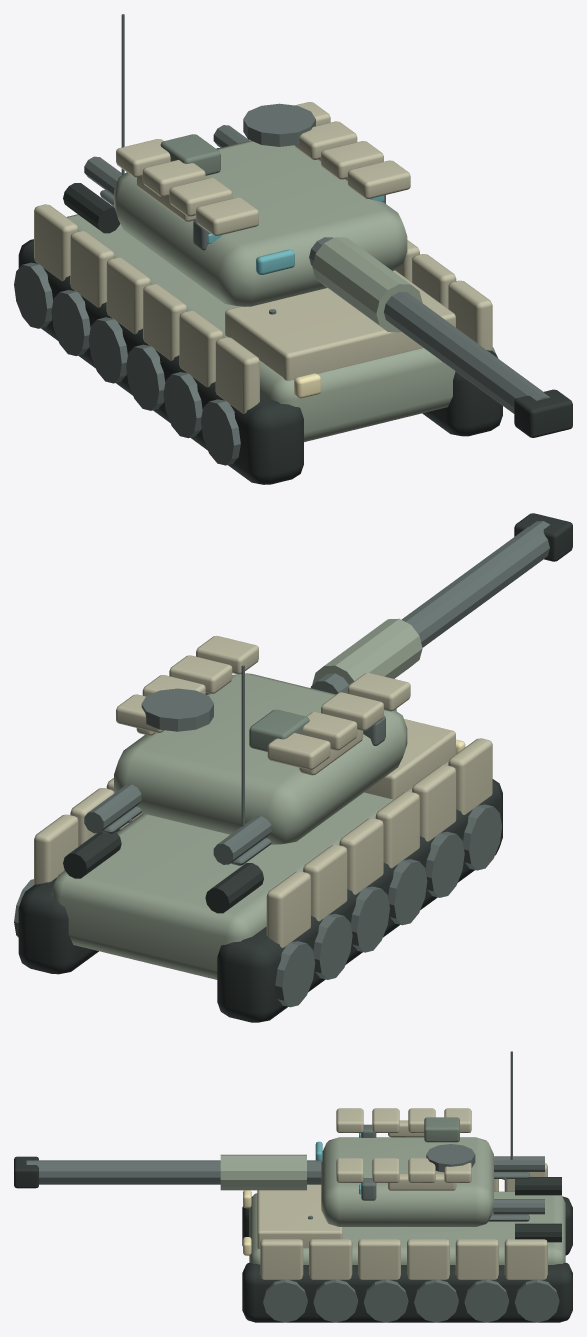
File: destroyer.glb
3 views of the same model, one above another, from view 1: azimuth 30°, elevation 25°; view 2: azimuth 150°, elevation 25°; view 3: azimuth 270°, elevation 25° (orthographic). The views are drawn at different scales.
Parts seen in each view (by area): view 1: Chassis, TurretArmor; view 2: Chassis, TurretArmor; view 3: Chassis, TurretArmor.
Part boxes in pixels (x1,y1,x2,y2): Chassis: (14,14,502,484); TurretArmor: (114,102,572,437); Chassis: (14,665,502,1022); TurretArmor: (114,513,572,844); Chassis: (242,1051,572,1322); TurretArmor: (14,1108,493,1226).
Bounding box in the file's own units: 2.9 × 3.29 × 7.78.
